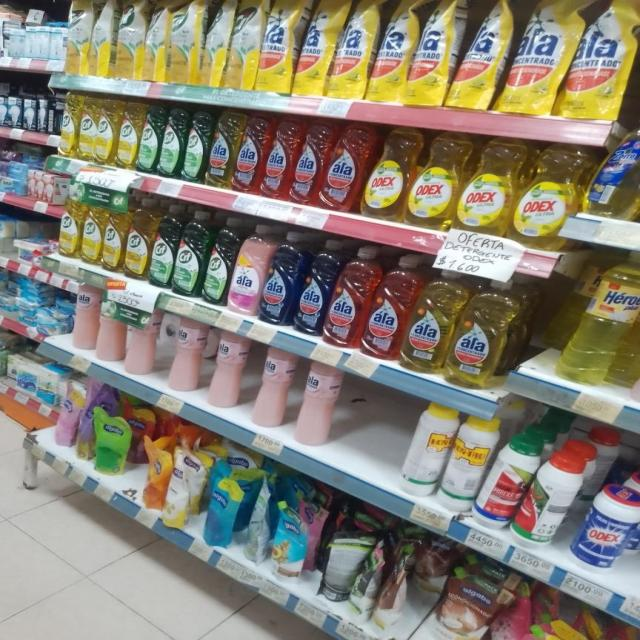ala_conc_amarillo: (452, 275, 516, 389), (405, 266, 451, 374), (209, 110, 235, 188)
ala_conc_azul: (263, 229, 298, 326), (298, 238, 329, 338)
ala_conc_rojo: (365, 254, 405, 360), (327, 245, 366, 349), (322, 121, 364, 212), (293, 119, 323, 206), (264, 116, 293, 201), (235, 115, 264, 194)
ala_crem_rosado: (252, 347, 292, 429), (208, 331, 245, 410), (167, 316, 203, 394), (74, 284, 97, 353)
ala_sachet_amarillo: (567, 0, 637, 121), (505, 0, 565, 117), (453, 0, 504, 111), (409, 1, 451, 108), (371, 2, 408, 104), (332, 1, 369, 100), (296, 0, 330, 97), (259, 0, 293, 93)
ala_ultra_rosa: (231, 222, 263, 317)
cif_conc_bot_amarilla: (126, 196, 150, 282), (103, 194, 125, 273), (118, 101, 138, 171), (58, 198, 80, 260), (96, 98, 116, 166), (82, 201, 102, 266), (59, 92, 78, 158), (78, 94, 96, 162)
cif_conc_botella_verde: (176, 208, 205, 298), (206, 215, 230, 306), (152, 202, 175, 290), (160, 106, 184, 180), (185, 109, 208, 183), (140, 104, 160, 175)
cif_conc_sachet_amarillo: (115, 0, 145, 81)
heroe: (564, 251, 640, 387)
odex: (459, 137, 514, 233), (408, 131, 458, 229), (364, 127, 406, 220)
